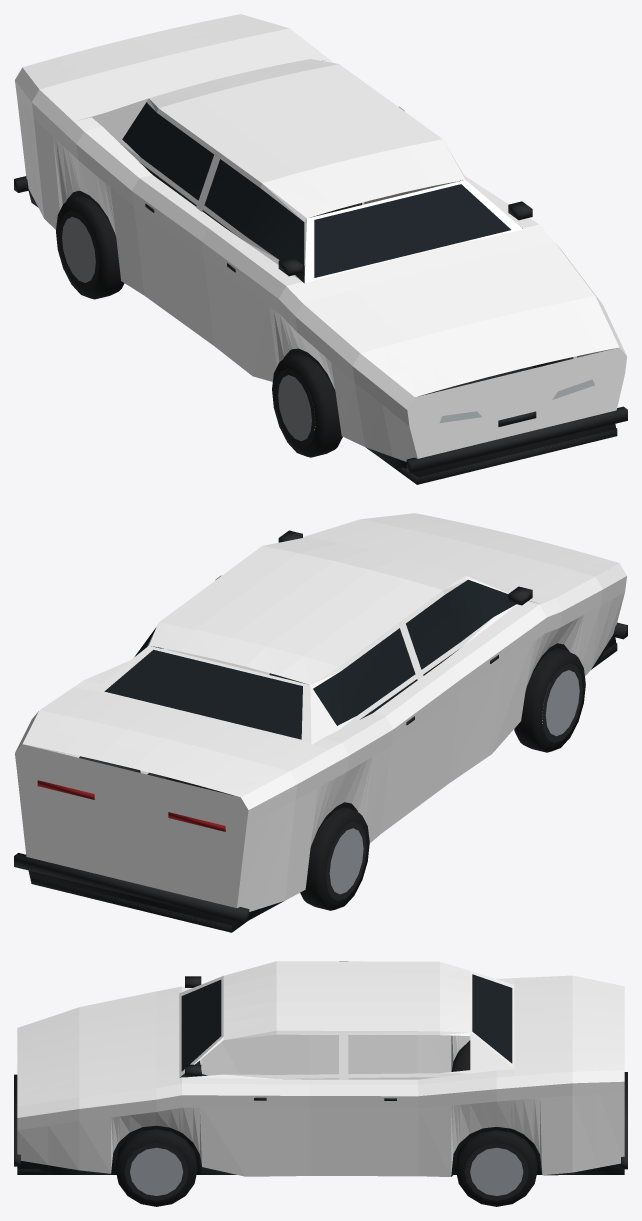
The model's file is kanaya_fortim.glb.
3 renders of one model, top to bottom at view 1: azimuth 30°, elevation 25°; view 2: azimuth 150°, elevation 25°; view 3: azimuth 270°, elevation 25°, orthographic. The views are drawn at different scales.
Parts seen in each view (by area): view 1: Body_Paint, Body_Details, Mount_FrontLeft_Wheel_Details, Mount_RearLeft_Wheel_Details; view 2: Body_Paint, Body_Details, Mount_FrontLeft_Wheel_Details, Mount_RearLeft_Wheel_Details; view 3: Body_Paint, Body_Details, Mount_FrontRight_Wheel_Details, Mount_RearRight_Wheel_Details.
Part boxes in pixels (bbox=[...]): Body_Paint: bbox=[15, 14, 626, 461]; Body_Details: bbox=[14, 102, 627, 484]; Mount_FrontLeft_Wheel_Details: bbox=[272, 353, 342, 457]; Mount_RearLeft_Wheel_Details: bbox=[56, 196, 124, 299]; Body_Paint: bbox=[15, 513, 626, 911]; Body_Details: bbox=[14, 530, 627, 932]; Mount_FrontLeft_Wheel_Details: bbox=[514, 648, 585, 752]; Mount_RearLeft_Wheel_Details: bbox=[300, 807, 369, 910]; Body_Paint: bbox=[17, 961, 624, 1176]; Body_Details: bbox=[14, 974, 627, 1176]; Mount_FrontRight_Wheel_Details: bbox=[115, 1129, 197, 1206]; Mount_RearRight_Wheel_Details: bbox=[455, 1130, 537, 1206].
Size of the model in its own units: 1.96 by 1.43 by 4.86.
Materials: 2 (1 with a texture image).
